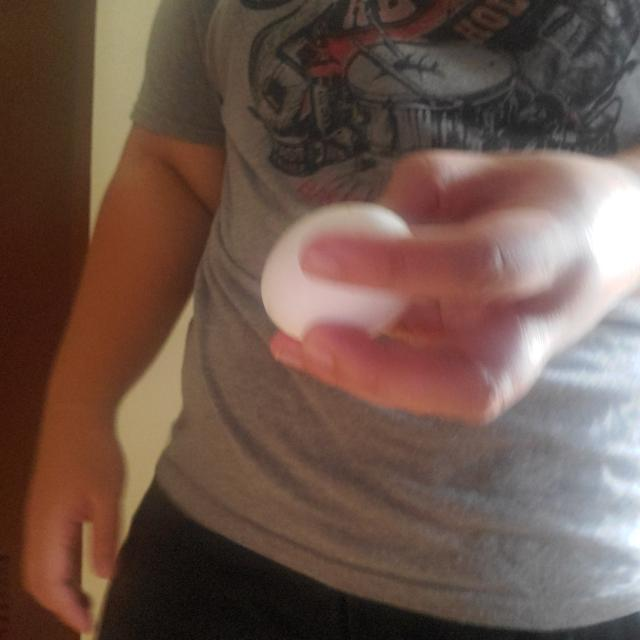egg: (259, 202, 423, 339)
